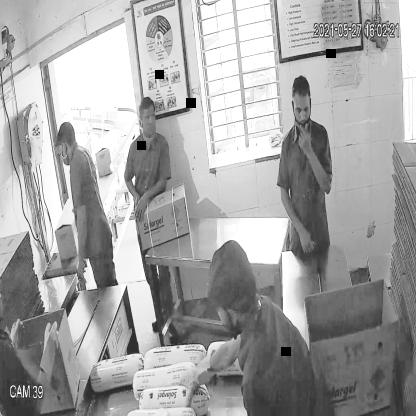no_goggles: (290, 97, 314, 119), (135, 108, 161, 128)
